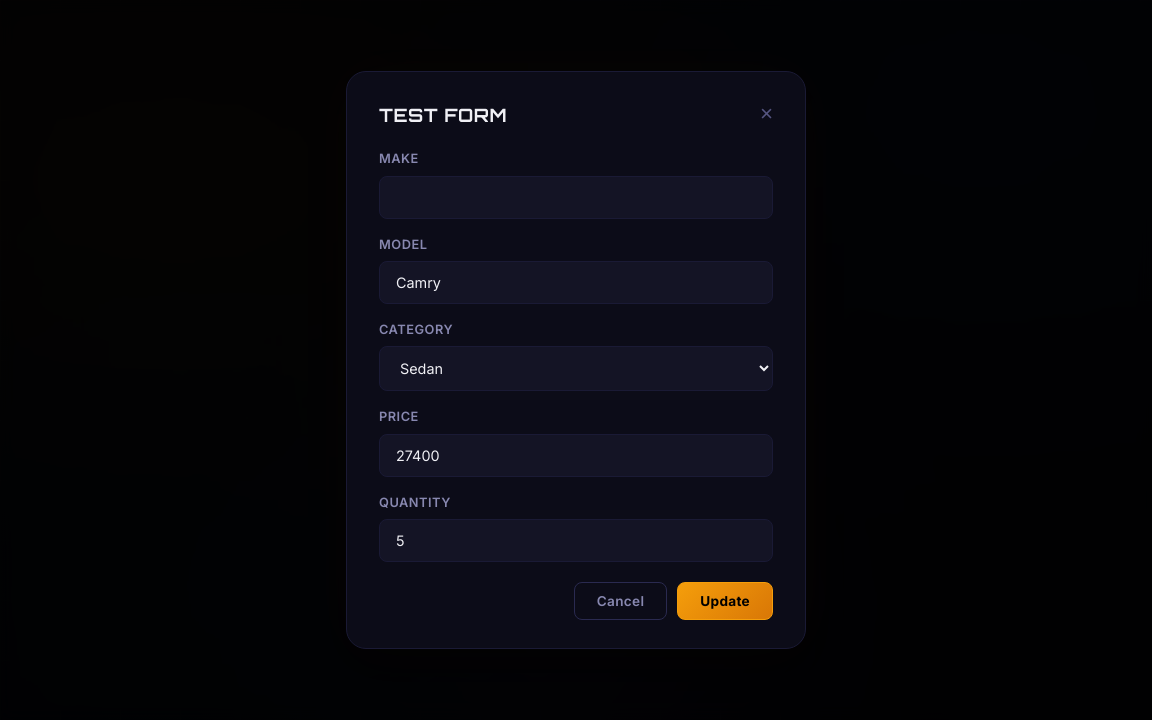
Test: VehicleForm › validates required fields
This screenshot has width=1152, height=720.
Click the button "Update" at (725, 601), box [677, 582, 773, 620]
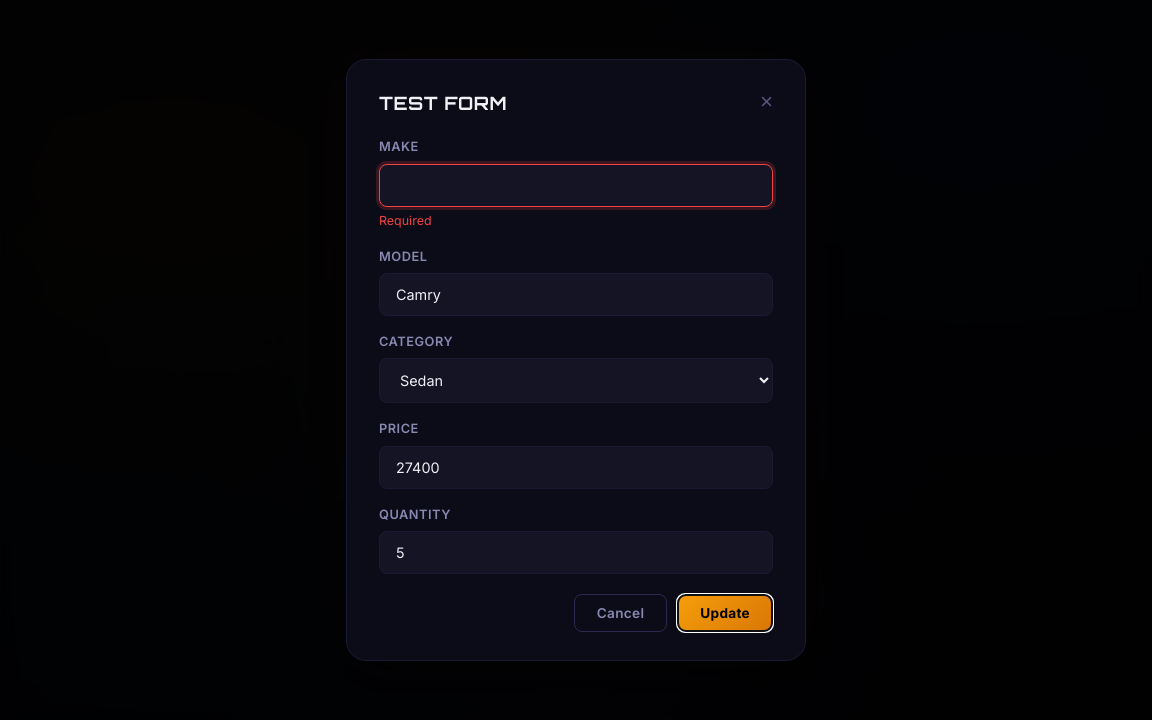
expect the text "Required" is shown: met, box [379, 212, 432, 228]
